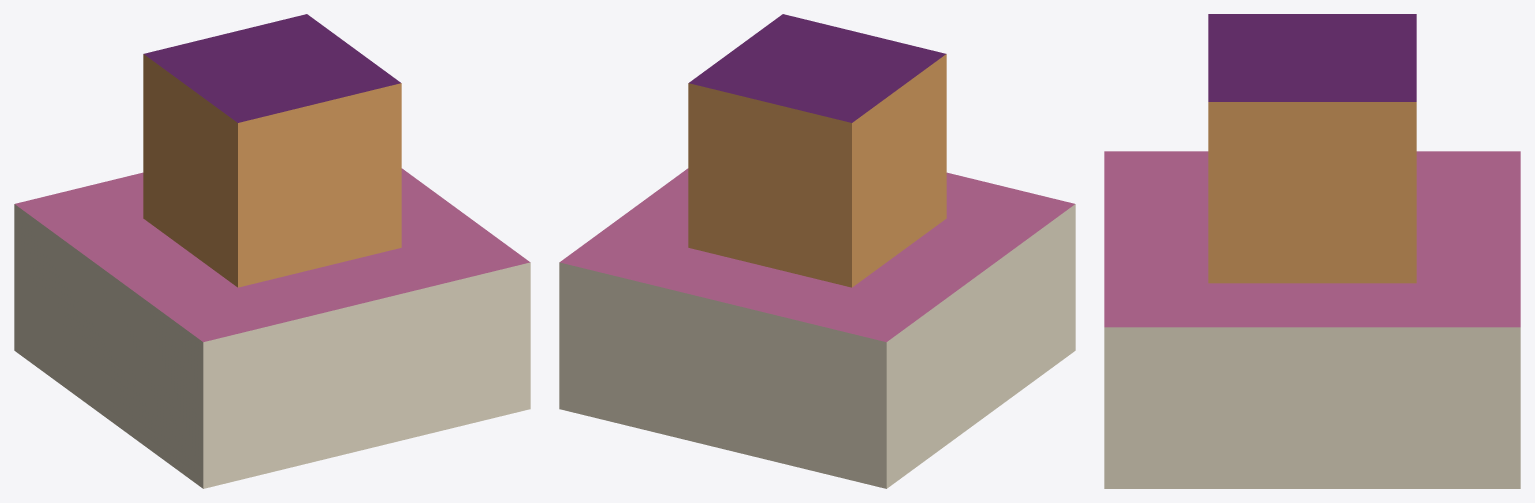
The model's file is Estatua.fbx.
3 renders of one model, left to right at view 1: azimuth 30°, elevation 25°; view 2: azimuth 150°, elevation 25°; view 3: azimuth 270°, elevation 25°, orthographic. The views are drawn at different scales.
Visible parts, largest first — view 1: Cube.226; view 2: Cube.226; view 3: Cube.226.
Boxes of the visible parts, left/top/right/bottom form: Cube.226: left=14, top=14, right=530, bottom=488; Cube.226: left=559, top=14, right=1075, bottom=488; Cube.226: left=1104, top=14, right=1520, bottom=488.
Bounding box in the file's own units: 140 × 127 × 140.
